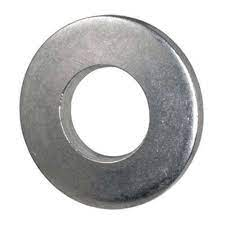No thread: (49, 58, 158, 165)
